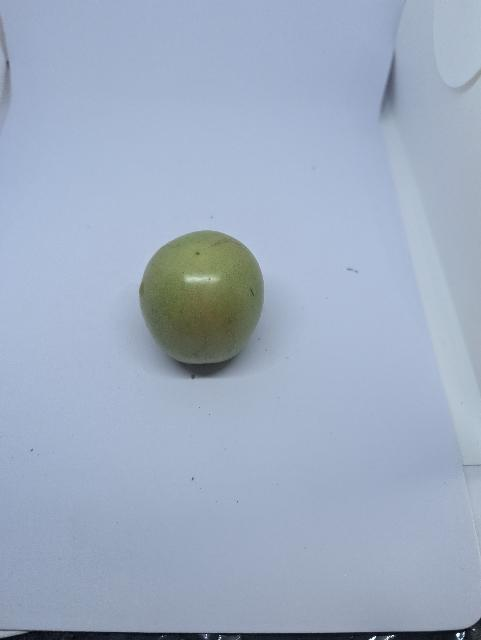green: (139, 227, 268, 365)
